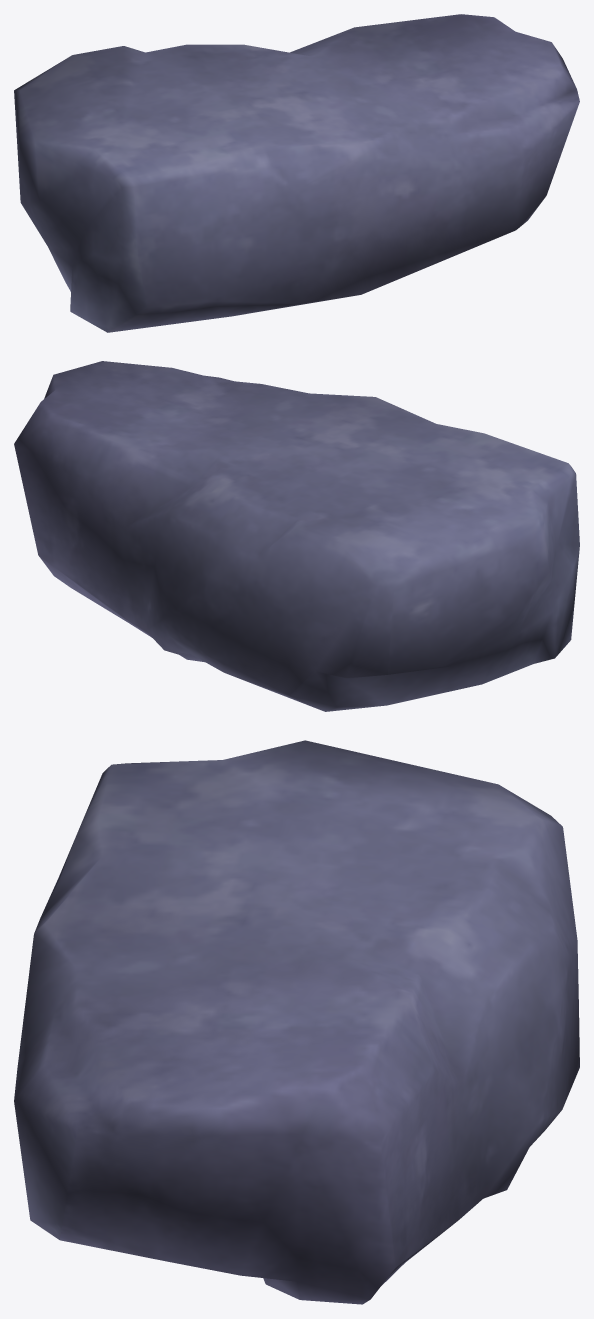
The model's file is Battle_haijie_qiao03_fbx.fbx.
3 views of the same model, one above another, from view 1: azimuth 30°, elevation 25°; view 2: azimuth 150°, elevation 25°; view 3: azimuth 270°, elevation 25° (orthographic). The views are drawn at different scales.
Parts seen in each view (by area): view 1: Battle_haijie_qiao03_fbx__1_; view 2: Battle_haijie_qiao03_fbx__1_; view 3: Battle_haijie_qiao03_fbx__1_.
Part boxes in pixels (x1,y1,x2,y2): Battle_haijie_qiao03_fbx__1_: [14, 14, 579, 332]; Battle_haijie_qiao03_fbx__1_: [14, 361, 579, 711]; Battle_haijie_qiao03_fbx__1_: [14, 740, 579, 1304].
Bounding box in the file's own units: 2126 × 721 × 1349.
